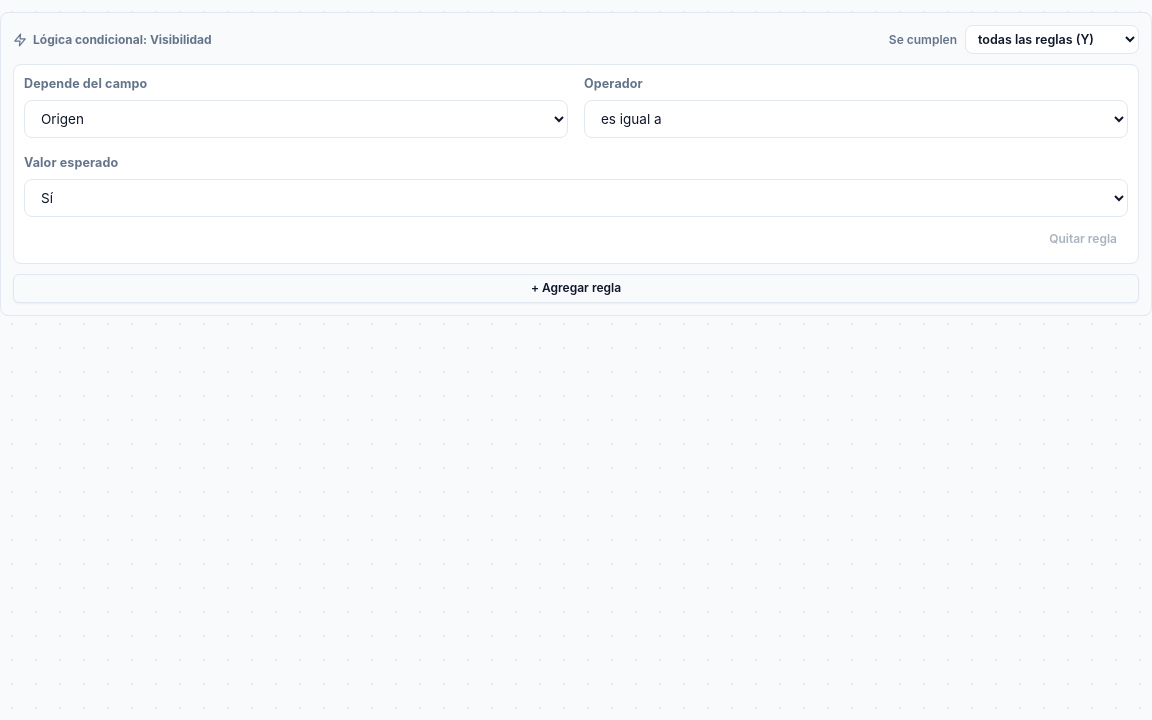
it: ConditionEditor — qué condición produce › agrega y quita reglas, y nunca deja la condición sin ninguna
This screenshot has width=1152, height=720.
Step 1. Click the button "+ Agregar regla" → (576, 289), box [13,274,1139,303]
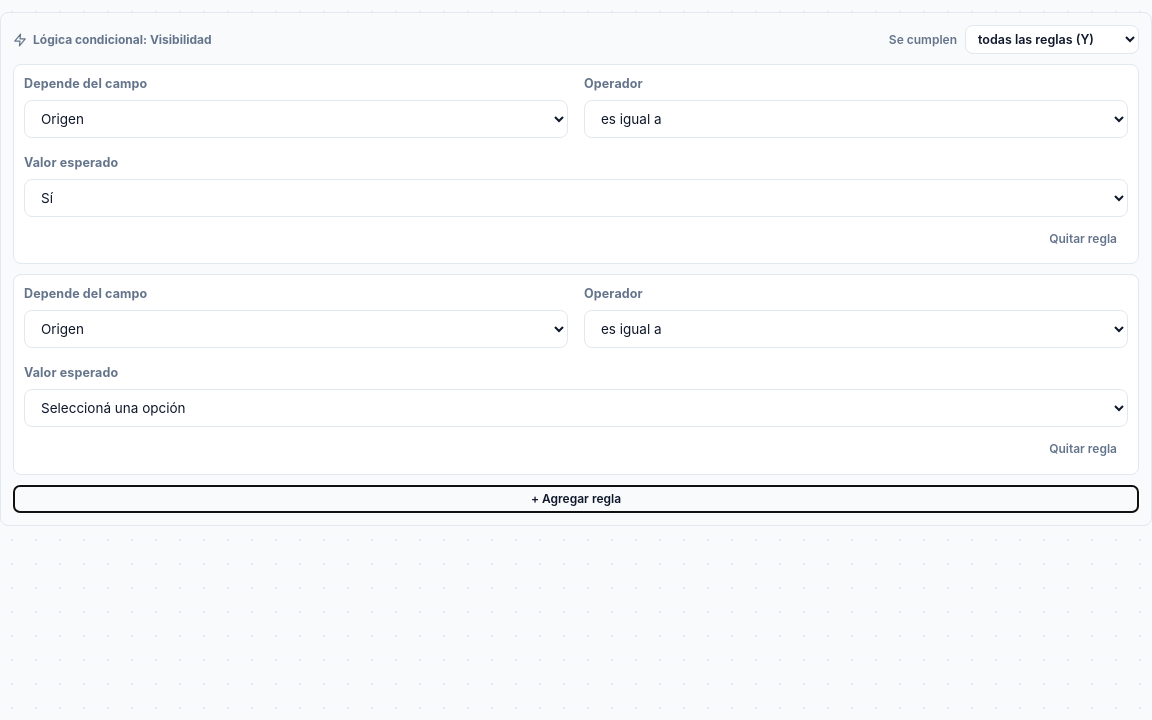
Step 2. Click the 1st button "Quitar regla" → (1083, 239), box [1038,224,1128,253]
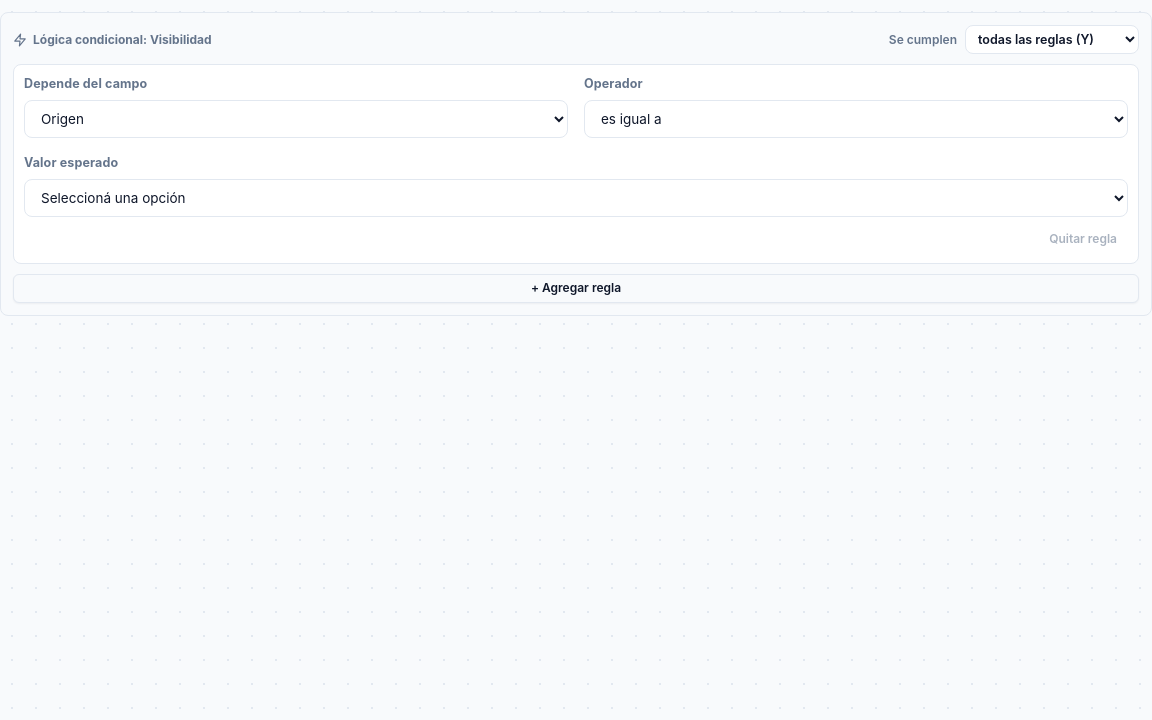
Expected: the button "Quitar regla" is disabled, [1038,224,1128,253]
